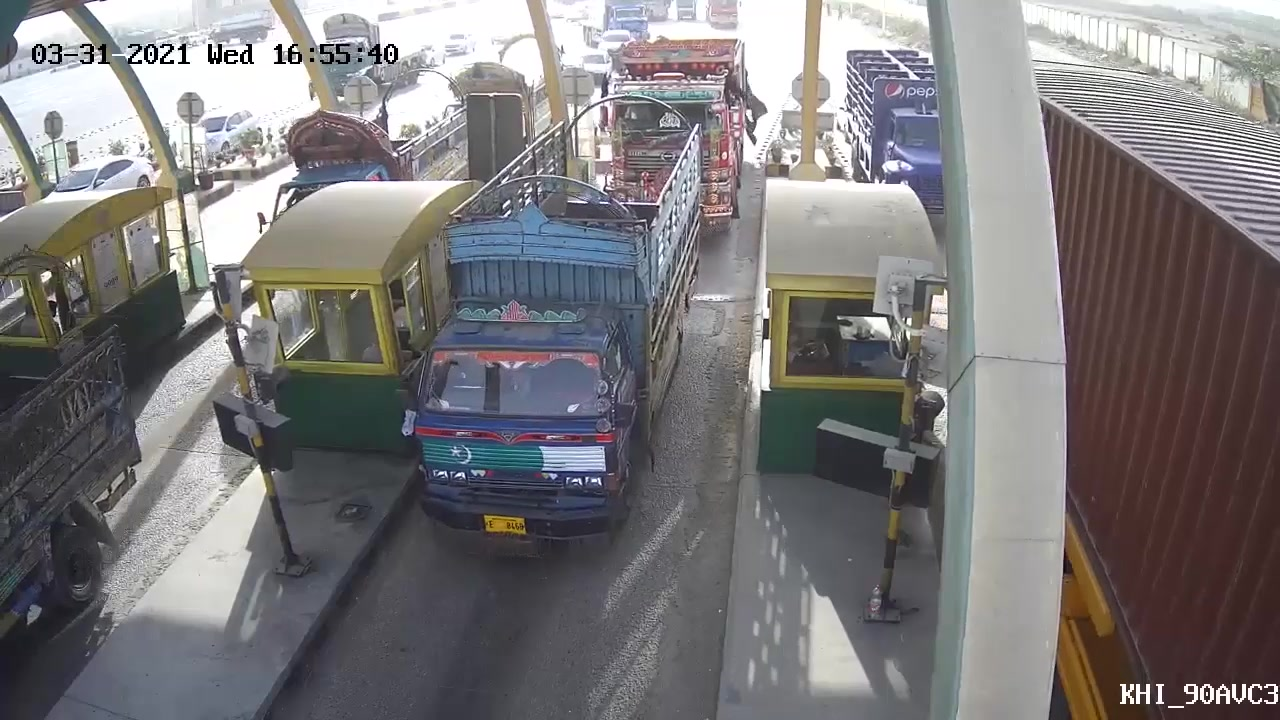F3: (391, 79, 712, 562)
